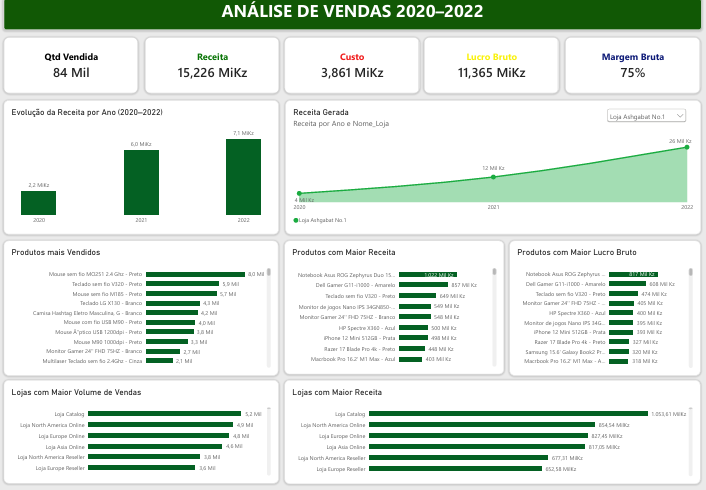

This screenshot's page, from the dashboard's own definition file:
{"tool":"powerbi","page":{"name":"Página 1","canvas":[1920,1080],"ordinal":0},"visuals":[{"type":"cardVisual","fields":{"Data":["vendas.Qtd Vendida"]},"box":[55.6,84.1,292.1,122.2],"z":0},{"type":"cardVisual","fields":{"Data":["vendas.Receita"]},"box":[361.9,84.1,292.1,122.2],"z":1000},{"type":"cardVisual","fields":{"Data":["vendas.Custo"]},"box":[666.7,84.1,293.7,122.2],"z":2000},{"type":"cardVisual","fields":{"Data":["vendas.Lucro Bruto"]},"box":[971.4,84.1,293.7,122.2],"z":3000},{"type":"cardVisual","fields":{"Data":["vendas.Margem Bruta"]},"box":[1279.4,84.1,293.7,122.2],"z":4000},{"type":"columnChart","title":"Evolução da Receita por Ano (2020–2022)","fields":{"Category":["vendas.Data_Venda.Variation.Hierarquia de datas.Ano"],"Y":["vendas.Receita"]},"box":[55.6,220.8,598.6,291.7],"z":5000},{"type":"barChart","title":"Produtos mais Vendidos","fields":{"Category":["produtos.Produto"],"Y":["vendas.Qtd Vendida"]},"box":[55.6,527,598.4,293.7],"z":6000},{"type":"barChart","title":"Produtos com Maior Receita","fields":{"Category":["produtos.Produto"],"Y":["vendas.Receita"]},"box":[666.7,527.5,478.3,291.3],"z":7000},{"type":"barChart","title":"Produtos com Maior Lucro Bruto","fields":{"Category":["produtos.Produto"],"Y":["vendas.Lucro Bruto"]},"box":[1156.5,527.5,415.9,294.2],"z":8000},{"type":"barChart","title":"Lojas com Maior Volume de Vendas","fields":{"Category":["lojas.Nome_Loja"],"Y":["vendas.Qtd Vendida"]},"box":[55.1,830.4,598.6,224.6],"z":9000},{"type":"barChart","title":"Lojas com Maior Receita","fields":{"Category":["lojas.Nome_Loja"],"Y":["vendas.Receita"]},"box":[666.7,830.4,905.8,226.1],"z":10000},{"type":"areaChart","title":"Receita Gerada","fields":{"Category":["vendas.Data_Venda.Variation.Hierarquia de datas.Ano"],"Y":["vendas.Receita"],"Series":["lojas.Nome_Loja"]},"box":[668.9,221.3,904.9,291.8],"z":11000},{"type":"slicer","fields":{"Values":["lojas.Nome_Loja"]},"box":[1363.9,234.4,182,44.3],"z":12000},{"type":"textbox","box":[55.4,0,1519.6,67.9],"z":13000}]}

Visuals, with their boxes on the page's 1920x1080 design canvas (x1, y1, x2, y2). These are canvas units, not pixel positions in the 706x490 screenshot, which may show the page scaled, cropped or inside an application window:
cardVisual - vendas.Qtd Vendida: box(56, 84, 348, 206)
cardVisual - vendas.Receita: box(362, 84, 654, 206)
cardVisual - vendas.Custo: box(667, 84, 960, 206)
cardVisual - vendas.Lucro Bruto: box(971, 84, 1265, 206)
cardVisual - vendas.Margem Bruta: box(1279, 84, 1573, 206)
"Evolução da Receita por Ano (2020–2022)" columnChart: box(56, 221, 654, 512)
"Produtos mais Vendidos" barChart: box(56, 527, 654, 821)
"Produtos com Maior Receita" barChart: box(667, 528, 1145, 819)
"Produtos com Maior Lucro Bruto" barChart: box(1156, 528, 1572, 822)
"Lojas com Maior Volume de Vendas" barChart: box(55, 830, 654, 1055)
"Lojas com Maior Receita" barChart: box(667, 830, 1572, 1056)
"Receita Gerada" areaChart: box(669, 221, 1574, 513)
slicer - lojas.Nome_Loja: box(1364, 234, 1546, 279)
textbox: box(55, 0, 1575, 68)
